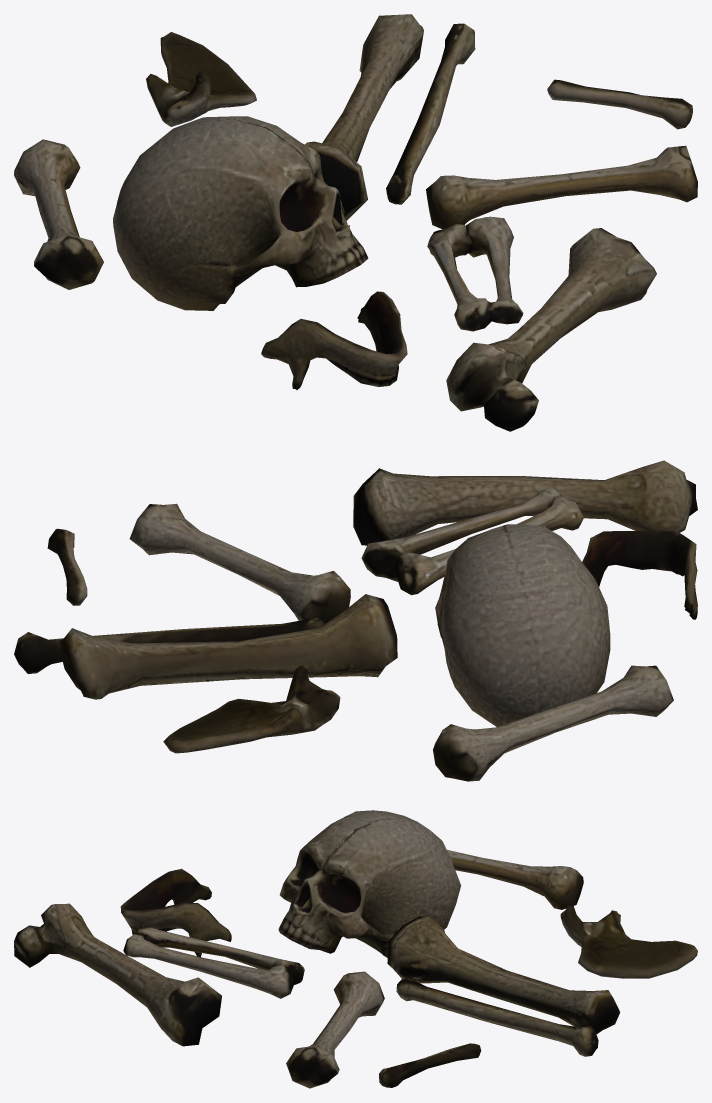
The model's file is debris_bones_02.fbx.
The picture shows the model from 3 angles, top to bottom: view 1: azimuth 30°, elevation 25°; view 2: azimuth 150°, elevation 25°; view 3: azimuth 270°, elevation 25°; orthographic projection. The views are drawn at different scales.
Parts seen in each view (by area): view 1: Skeleton.001; view 2: Skeleton.001; view 3: Skeleton.001.
Part boxes in pixels (bbox=[...]): Skeleton.001: bbox=[14, 14, 697, 431]; Skeleton.001: bbox=[14, 460, 697, 781]; Skeleton.001: bbox=[14, 810, 697, 1088].
Bounding box in the file's own units: 94.28 × 25.27 × 110.
Materials: 1 (1 with a texture image).
